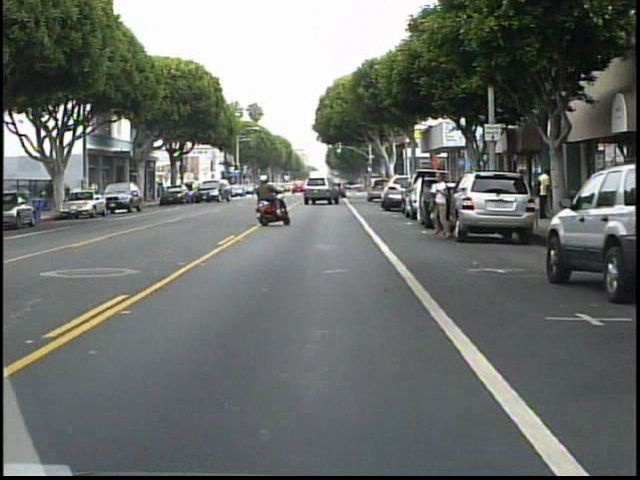person: (250, 171, 287, 224), (428, 168, 451, 241), (535, 166, 553, 226), (45, 177, 59, 210)
